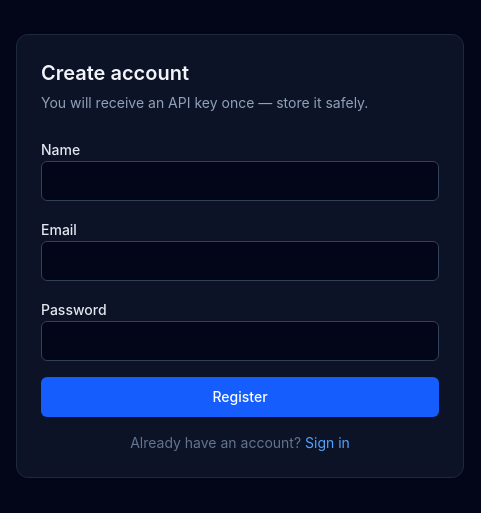
Scenario: RegisterPage › shows fallback error on unexpected failure
Type "a@b.com" into the field labelled "Email".
click(240, 261); type("a@b.com")  # box [41,241,439,281]
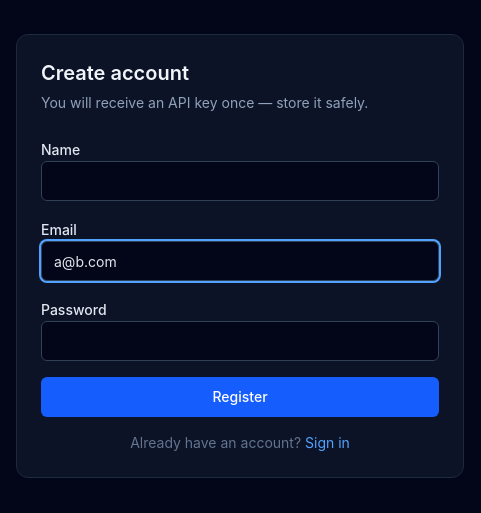
Type "pass123" into the password field labelled "Password".
click(240, 341); type("pass123")  # box [41,321,439,361]
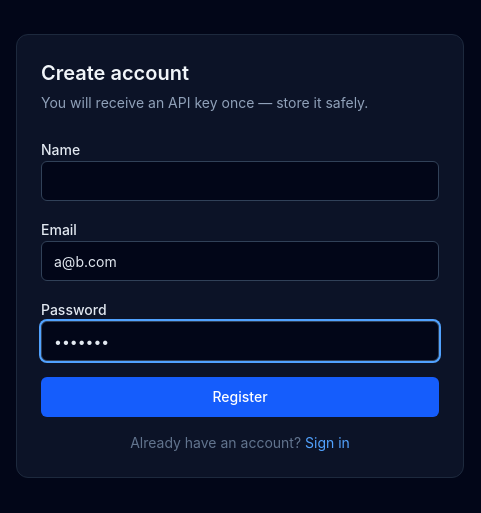
Click the button "Register".
click(240, 397)  # box [41,377,439,417]
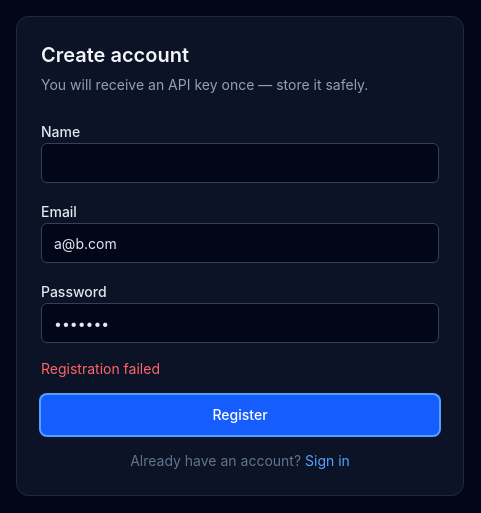
Expected: the text "Registration failed" is shown, [41,360,160,377]
